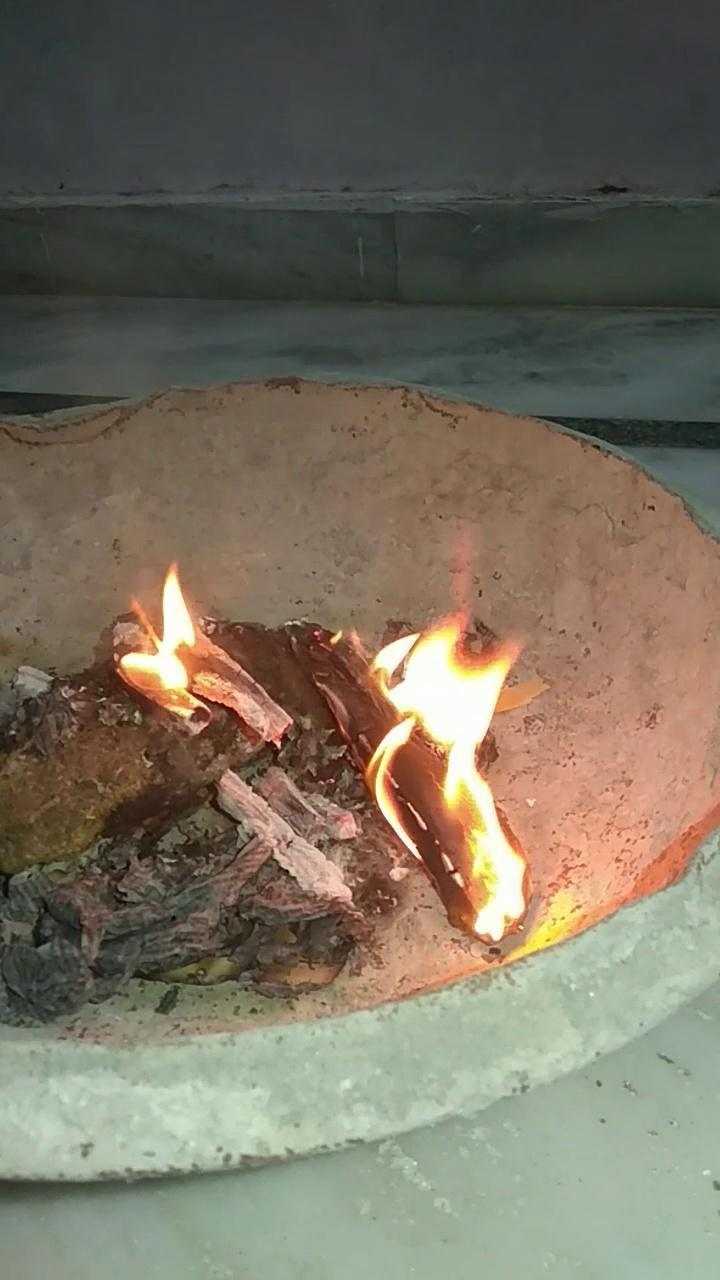fire: (317, 515, 581, 957), (96, 554, 238, 732)
